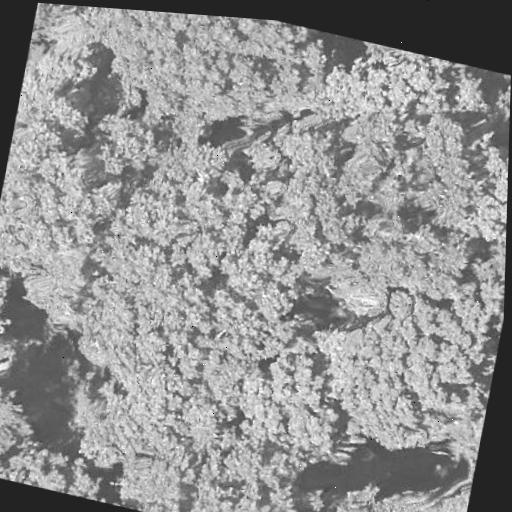tree-top: (62, 189, 217, 394), (323, 285, 490, 461), (337, 92, 486, 232), (0, 127, 117, 301), (237, 322, 357, 466), (361, 206, 477, 308), (85, 6, 209, 91), (220, 223, 310, 321), (112, 431, 203, 512), (86, 99, 170, 186), (210, 16, 326, 75), (263, 109, 348, 186), (11, 441, 115, 503), (325, 465, 458, 512), (461, 131, 509, 251), (455, 64, 511, 135), (0, 363, 40, 461), (47, 4, 110, 65), (449, 65, 501, 123), (0, 263, 22, 349), (433, 466, 473, 512), (486, 71, 511, 143), (258, 511, 353, 512)
